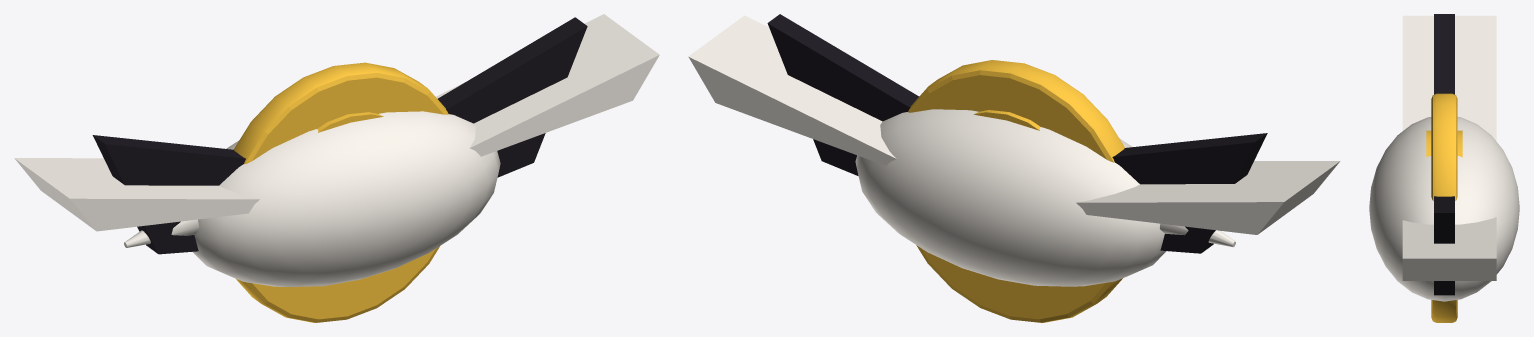
Rendered from FxMeshes.fbx.
The picture shows the model from 3 angles, left to right: view 1: azimuth 30°, elevation 25°; view 2: azimuth 150°, elevation 25°; view 3: azimuth 270°, elevation 25°; orthographic projection. The views are drawn at different scales.
Visible parts, largest first — view 1: Gull, Coin, Bat; view 2: Gull, Coin, Bat; view 3: Gull, Coin, Bat.
Part boxes in pixels (x1,y1,x2,y2): Gull: (14, 14, 659, 286); Coin: (234, 62, 448, 322); Bat: (92, 17, 587, 254); Gull: (688, 15, 1340, 286); Coin: (908, 60, 1124, 322); Bat: (767, 14, 1267, 253); Gull: (1369, 15, 1519, 301); Coin: (1426, 93, 1462, 322); Bat: (1434, 14, 1454, 295).
Size of the model in its own units: 1.1 by 0.44 by 0.288.
